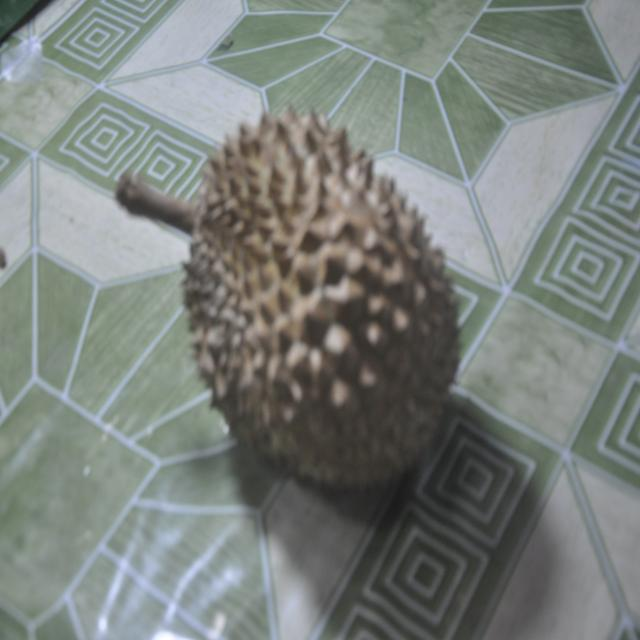mature: (117, 109, 458, 487)
